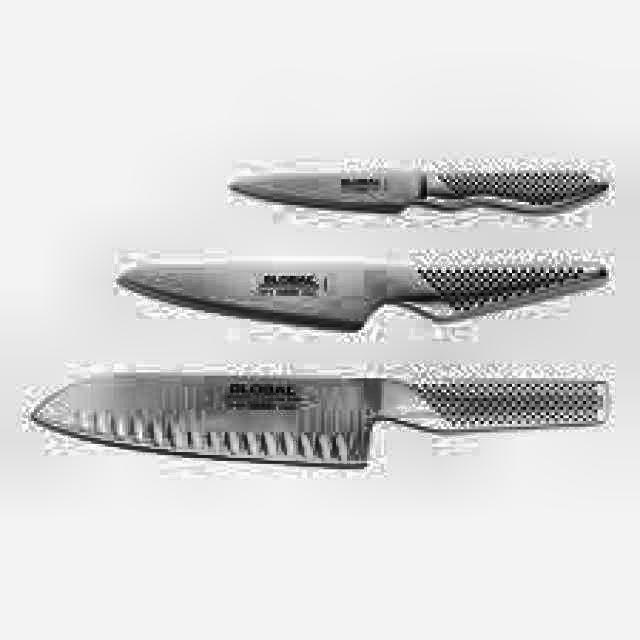knife: (28, 368, 598, 474), (114, 258, 611, 334), (228, 156, 612, 226)
